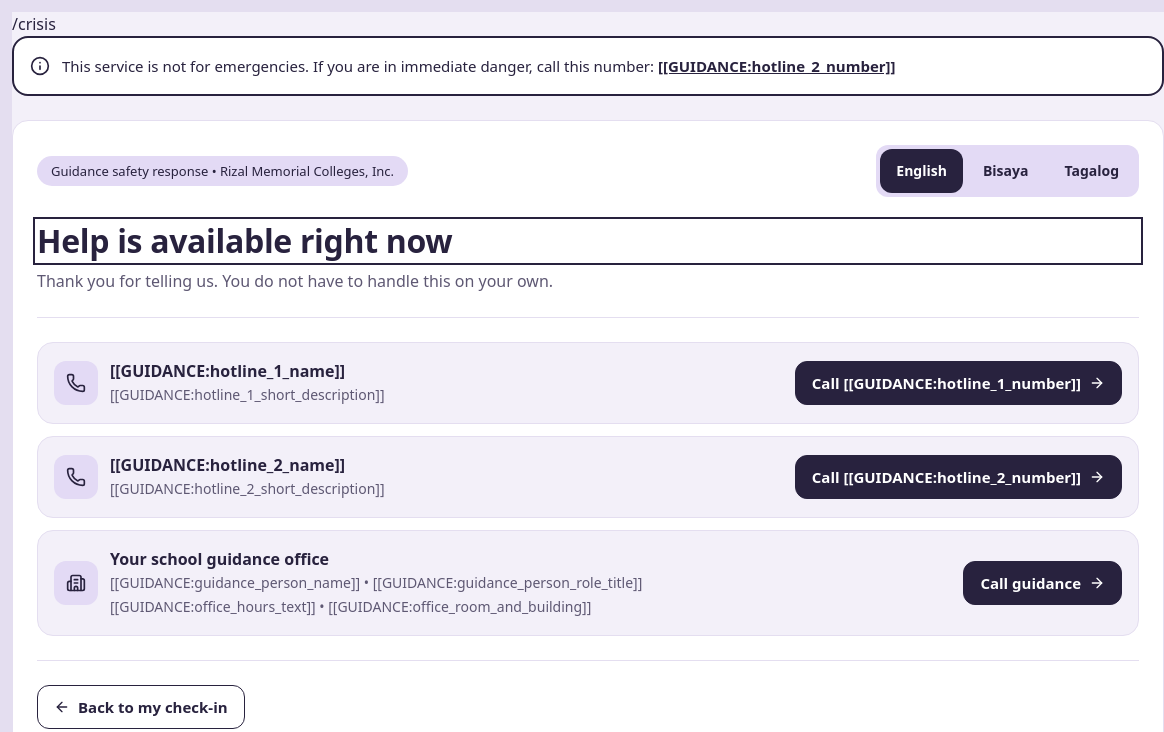
CrisisPage (Fig 18; 2.1.6.1.6; 2.1.6.4.6) › switches every crisis text to Bisaya or Tagalog (team placeholders until filled)
The image size is (1164, 732).
Click the radio button labelled "Bisaya": click(1006, 171) [967,149,1044,193]
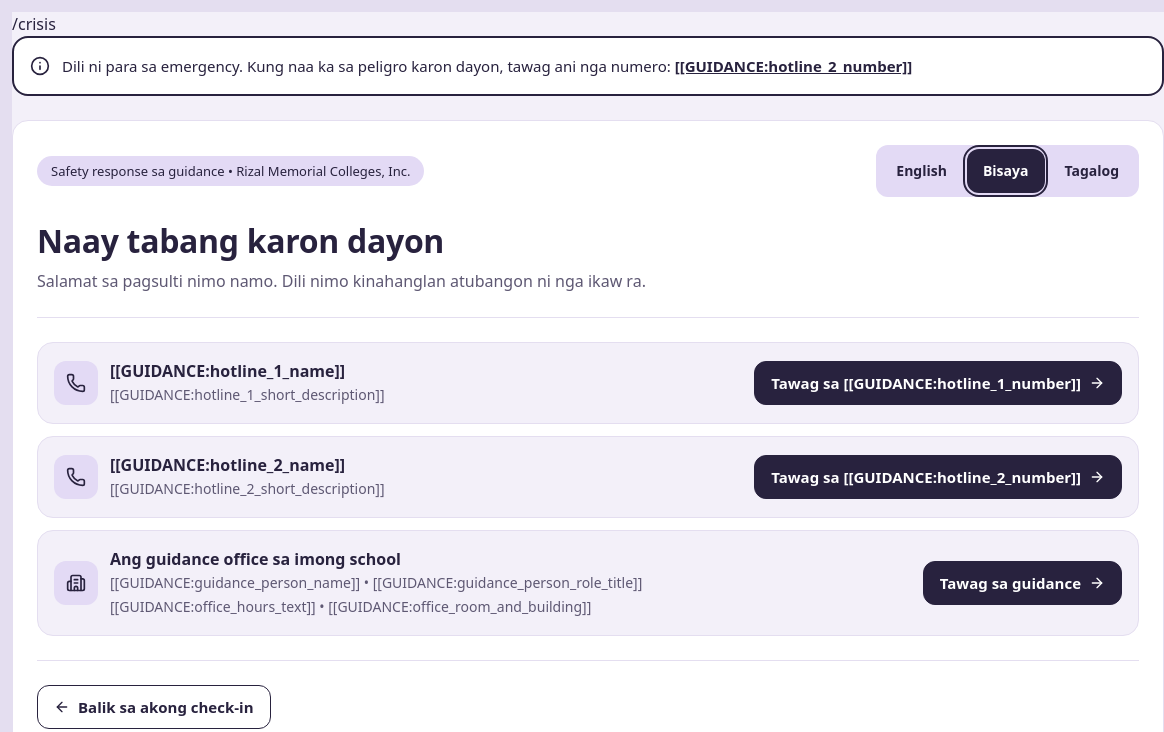
Result: the heading "Naay tabang karon dayon" is shown at [37,219,444,262]
Click the radio button labelled "Tagalog": click(1092, 171) [1048,149,1135,193]
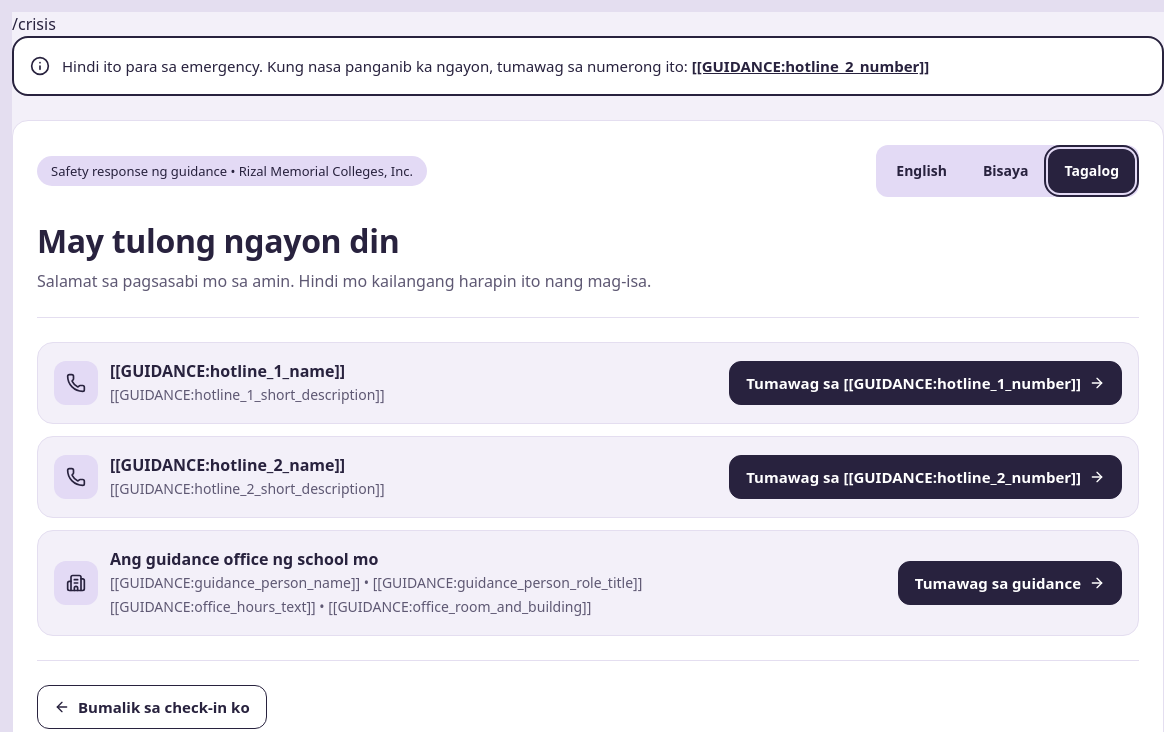
Result: the text "Salamat sa pagsasabi mo sa amin. Hindi mo kailangang harapin ito nang mag-isa." is shown at [37,270,651,292]
